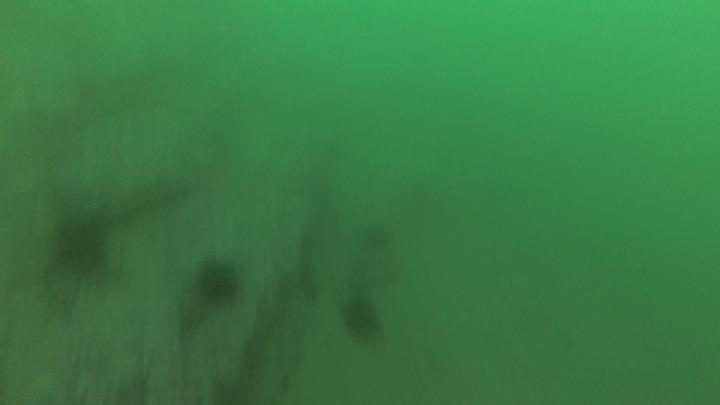echinus: (48, 210, 113, 282), (192, 254, 243, 309), (338, 292, 386, 347), (358, 218, 395, 254)
